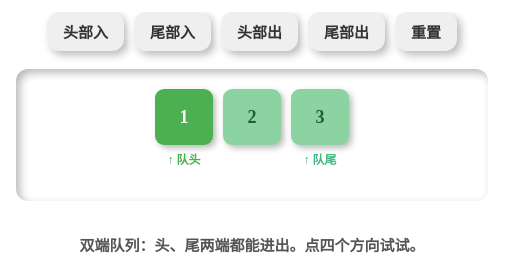
Test: DequeViz 双端队列互动 › TC-VIZ-DEQUEVIZ-07 头部出×3 → 空：出队按钮禁用 + empty-hint
Click the button "头部出" at [260, 32], box 221,12 -> 298,51
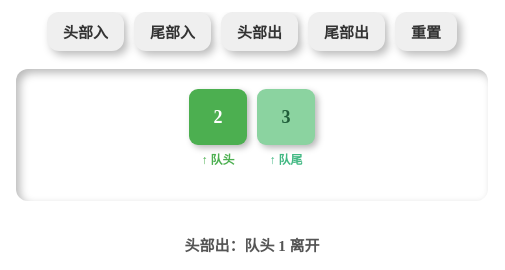
Click the button "头部出" at [260, 32], box 221,12 -> 298,51
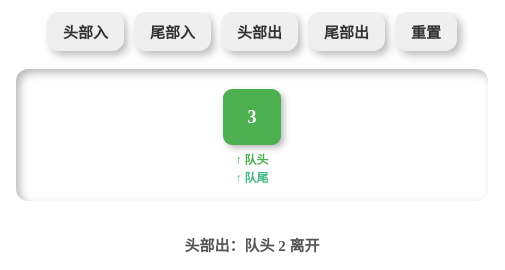
Click the button "头部出" at [260, 32], box 221,12 -> 298,51
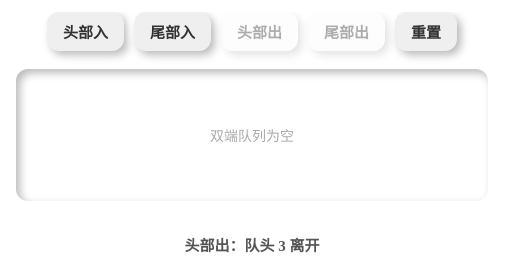
Now no elements with class "dqitem" are shown
Now the text "双端队列为空" is shown, box 210,125 -> 294,145
Now the button "头部出" is disabled, box 221,12 -> 298,51
